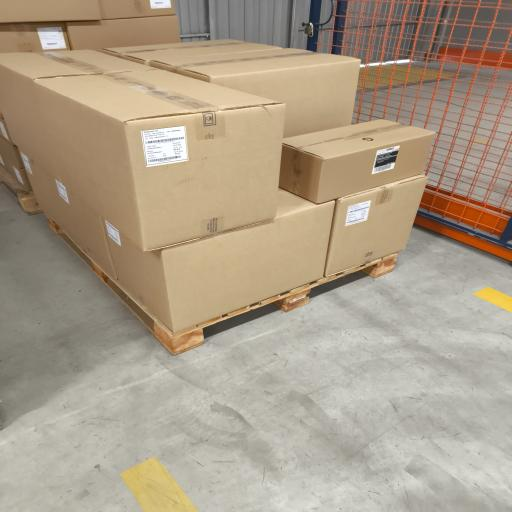pallet: (48, 219, 397, 354), (2, 181, 42, 214)
